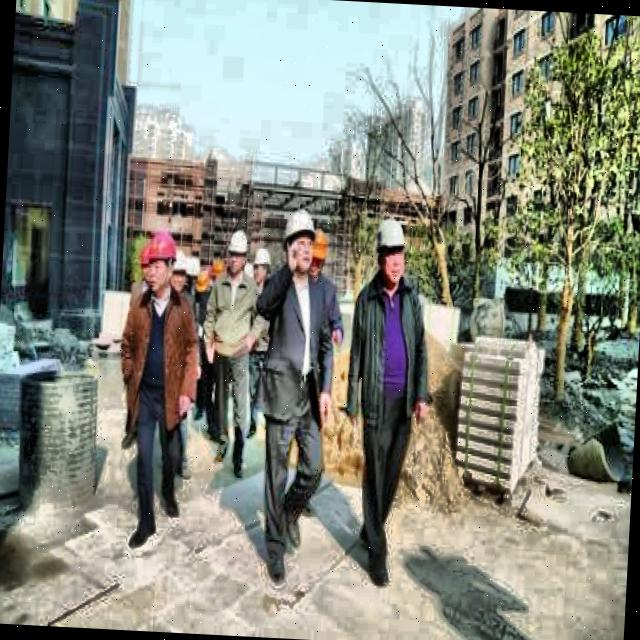helmet: (370, 214, 410, 285), (138, 229, 178, 292), (278, 211, 316, 276), (222, 223, 252, 280), (306, 222, 332, 285), (248, 240, 273, 286), (170, 244, 190, 296)
